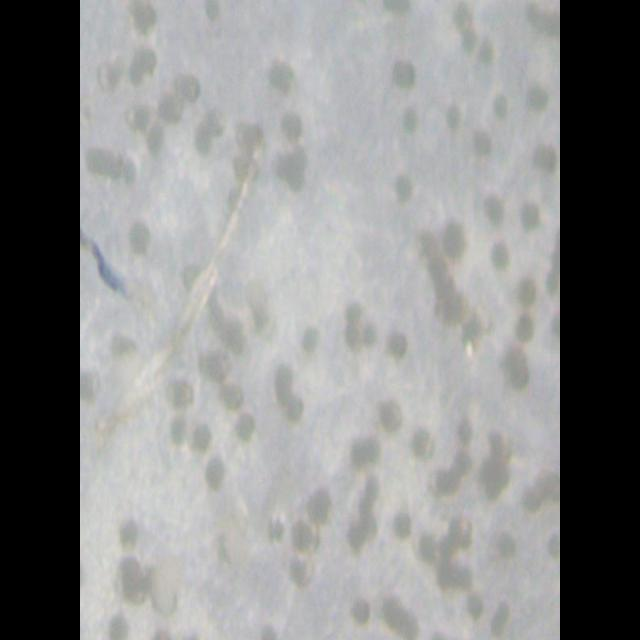Fibre: (80, 113, 268, 444)
